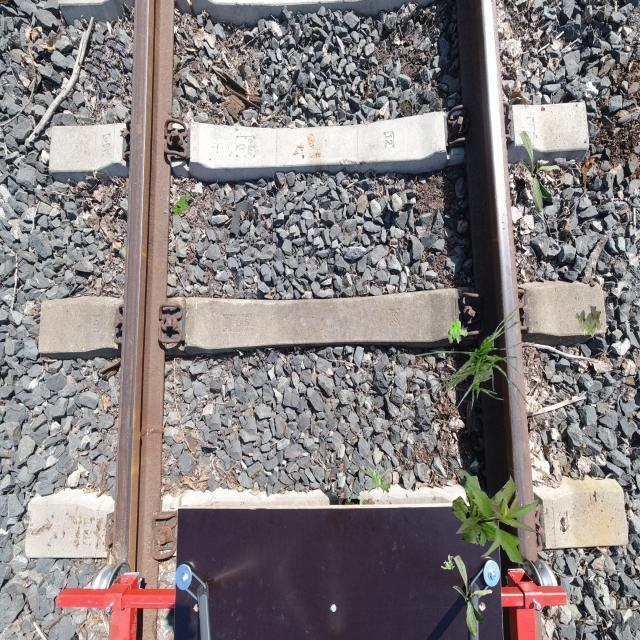Plant: (412, 304, 530, 426), (452, 467, 540, 564), (453, 555, 493, 638), (519, 130, 559, 212), (360, 459, 392, 494), (576, 306, 602, 338), (448, 319, 468, 344), (172, 192, 192, 217), (441, 554, 455, 570)
